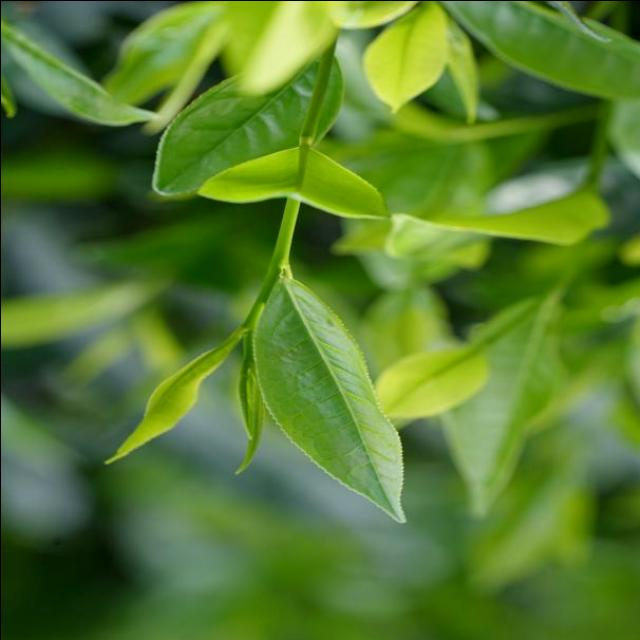Stem: (242, 312, 259, 330)
